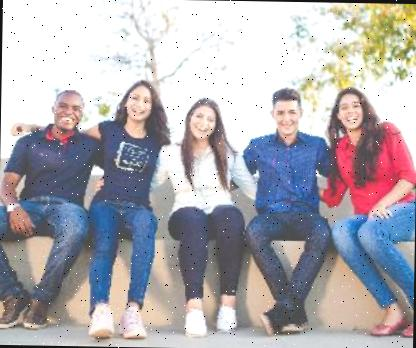person: (80, 70, 177, 348), (239, 75, 336, 348), (321, 81, 416, 348), (0, 80, 99, 333), (164, 88, 254, 342)
